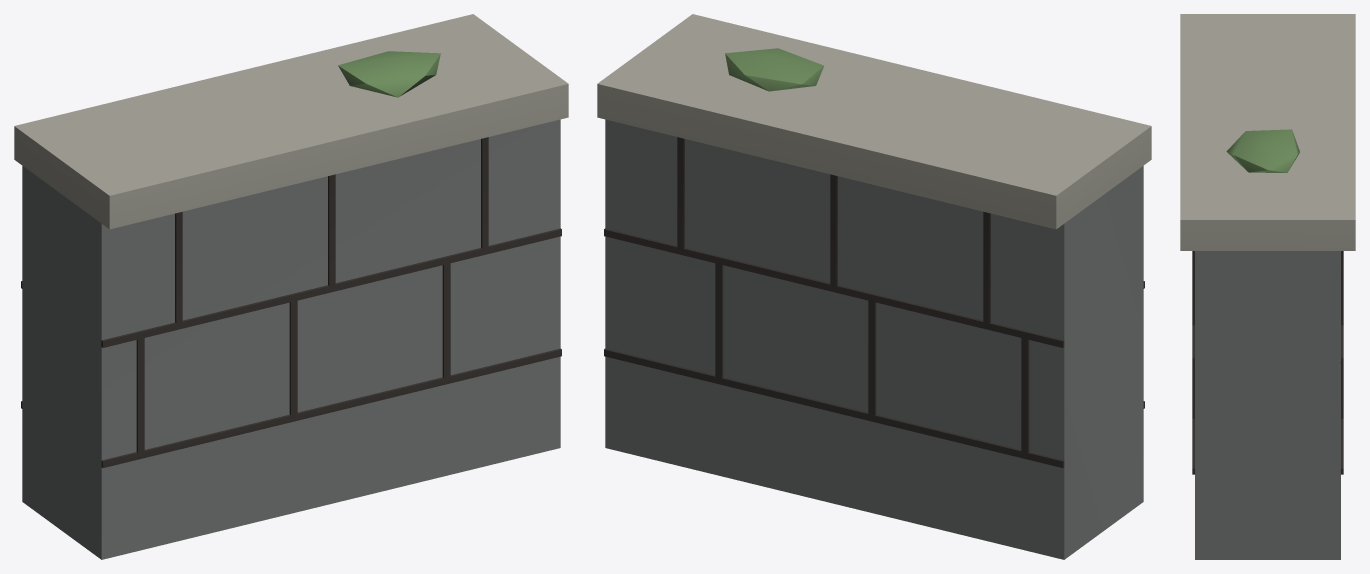
File: fence_stone_run.glb
The picture shows the model from 3 angles, left to right: view 1: azimuth 30°, elevation 25°; view 2: azimuth 150°, elevation 25°; view 3: azimuth 270°, elevation 25°; orthographic projection. The views are drawn at different scales.
Parts seen in each view (by area): view 1: fence_stone_run; view 2: fence_stone_run; view 3: fence_stone_run.
Boxes of the visible parts, <box> form: fence_stone_run: <box>14,14,568,559</box>; fence_stone_run: <box>597,14,1151,559</box>; fence_stone_run: <box>1180,14,1355,559</box>.
Bounding box in the file's own units: 1 × 0.8149 × 0.36.
